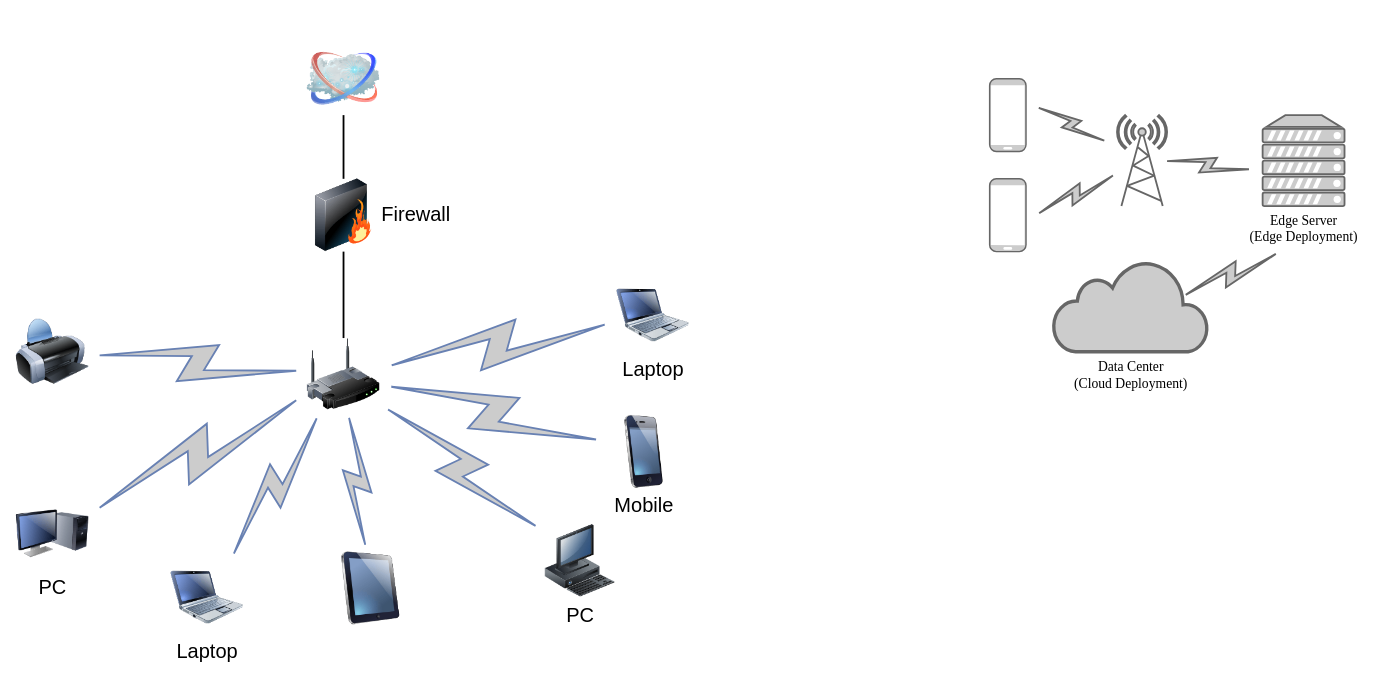
Some shapes in this 1373 by 679 pixel diagram are drawn without their labels. Each missing label, with the box of its shape:
Cellular Access Point: (1116, 114, 1168, 207)
Internet: (307, 42, 379, 115)
Printer: (15, 315, 88, 388)
Tablet: (334, 551, 407, 624)
